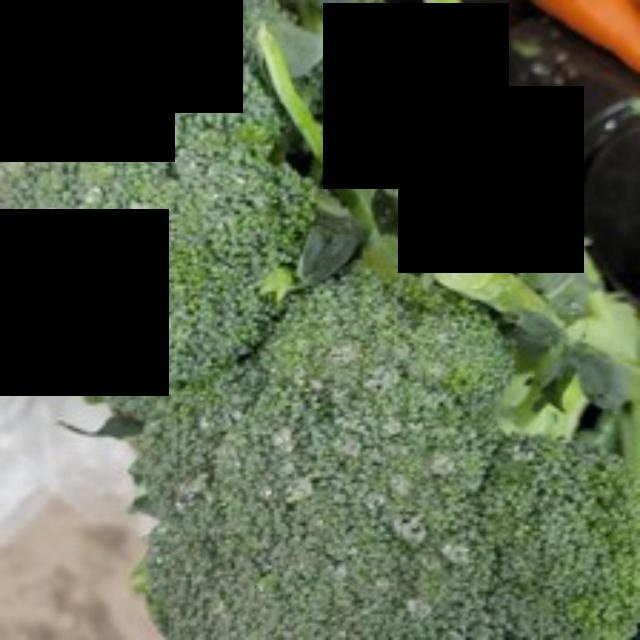broccoli: (114, 266, 637, 636)
